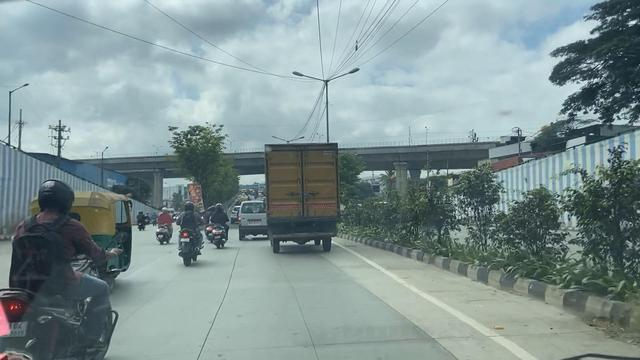HMV: (262, 143, 339, 252)
LMV: (174, 204, 201, 264), (240, 200, 263, 238), (209, 201, 226, 247)
